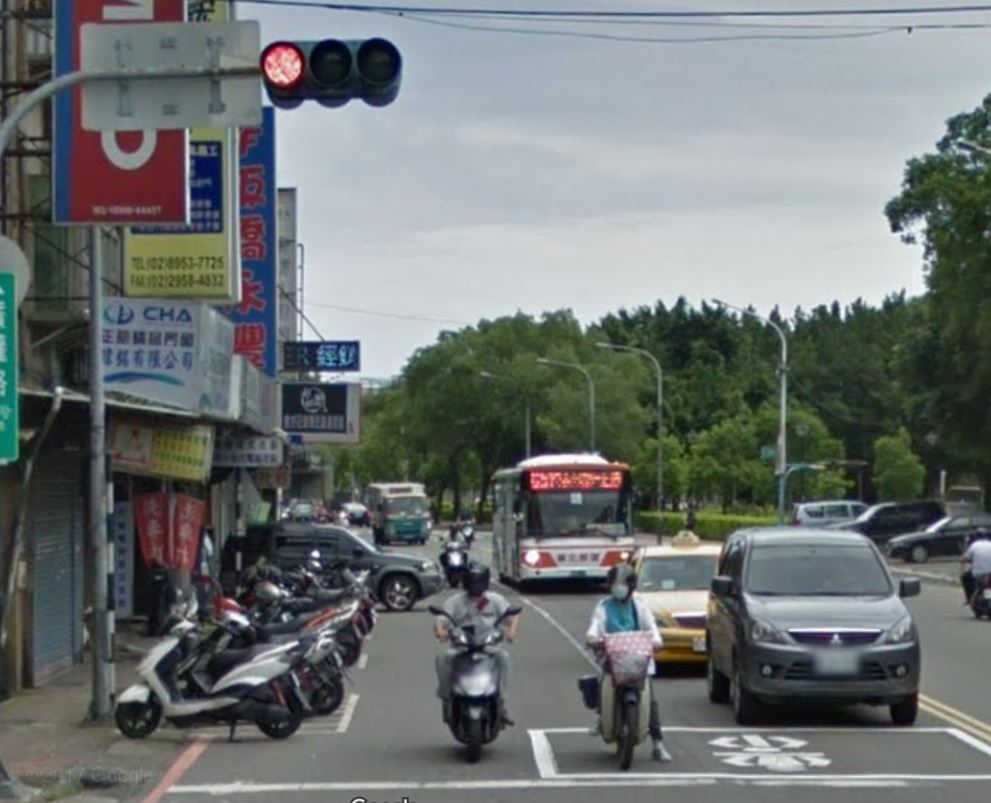Traffic_light_red: (259, 39, 402, 96)
